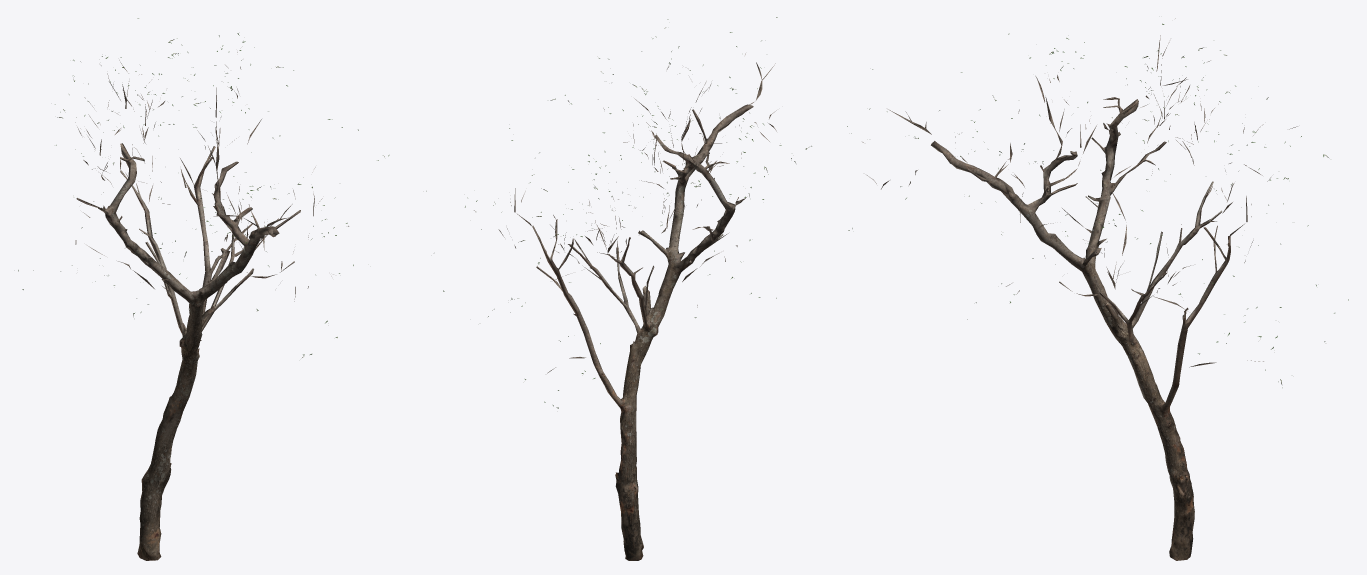
File: medium.gltf
The picture shows the model from 3 angles, left to right: view 1: azimuth 30°, elevation 25°; view 2: azimuth 150°, elevation 25°; view 3: azimuth 270°, elevation 25°; orthographic projection. The views are drawn at different scales.
Visible parts, largest first — view 1: tree_small_02_LOD0; view 2: tree_small_02_LOD0; view 3: tree_small_02_LOD0.
Part boxes in pixels (x1,y1,x2,y2): tree_small_02_LOD0: [18, 18, 389, 560]; tree_small_02_LOD0: [426, 17, 811, 560]; tree_small_02_LOD0: [847, 18, 1348, 560].
Bounding box in the file's own units: 2.85 × 4.46 × 3.94.
3 materials, 3 textured.
